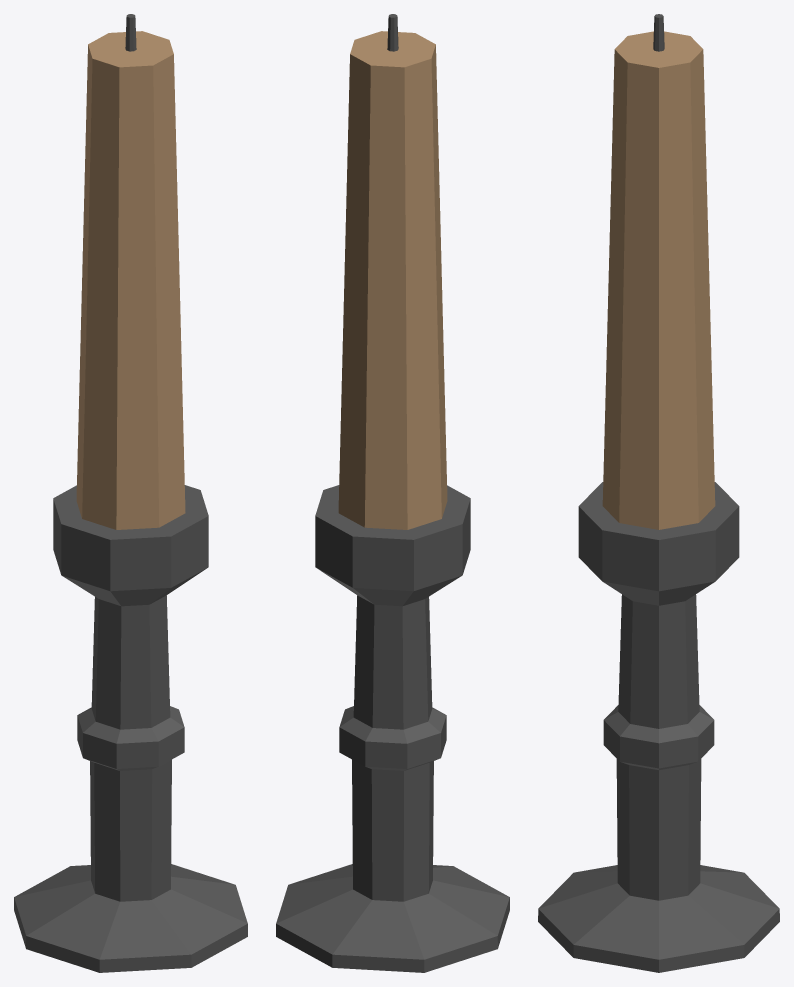
The model's file is Candle_01.glb.
3 renders of one model, left to right at view 1: azimuth 30°, elevation 25°; view 2: azimuth 150°, elevation 25°; view 3: azimuth 270°, elevation 25°, orthographic.
Parts seen in each view (by area): view 1: Candle_01; view 2: Candle_01; view 3: Candle_01.
Boxes of the visible parts, bbox=[...] form: Candle_01: bbox=[14, 14, 247, 972]; Candle_01: bbox=[276, 14, 509, 972]; Candle_01: bbox=[538, 14, 779, 972].
Size of the model in its own units: 0.0814 by 0.3367 by 0.0814.
Materials: 1 (1 with a texture image).
